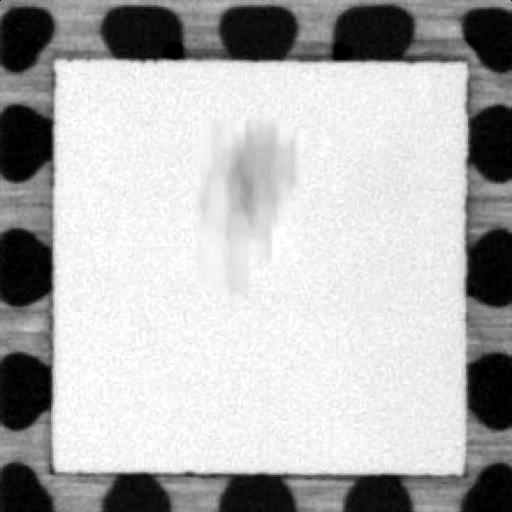DIE_INK: (194, 116, 292, 302)
